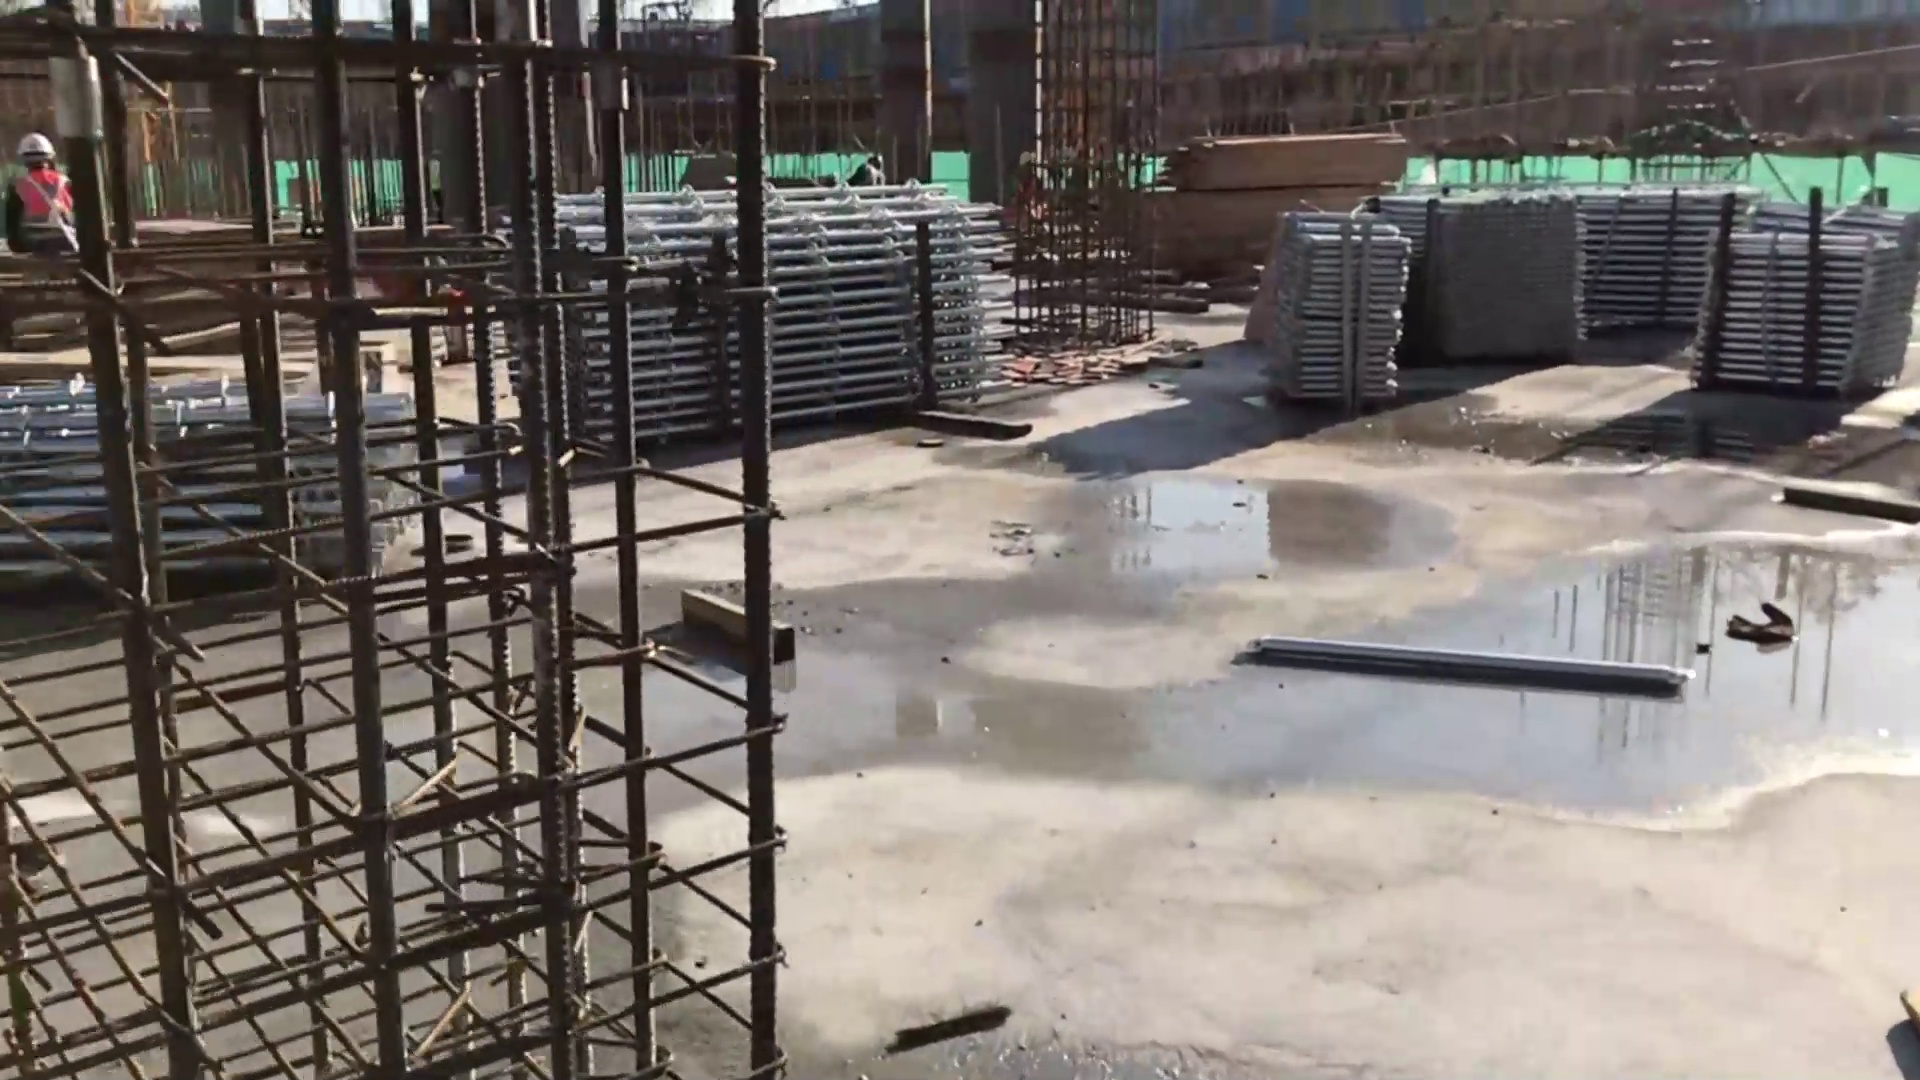scaffold: (1274, 179, 1915, 407), (538, 181, 1009, 439)
